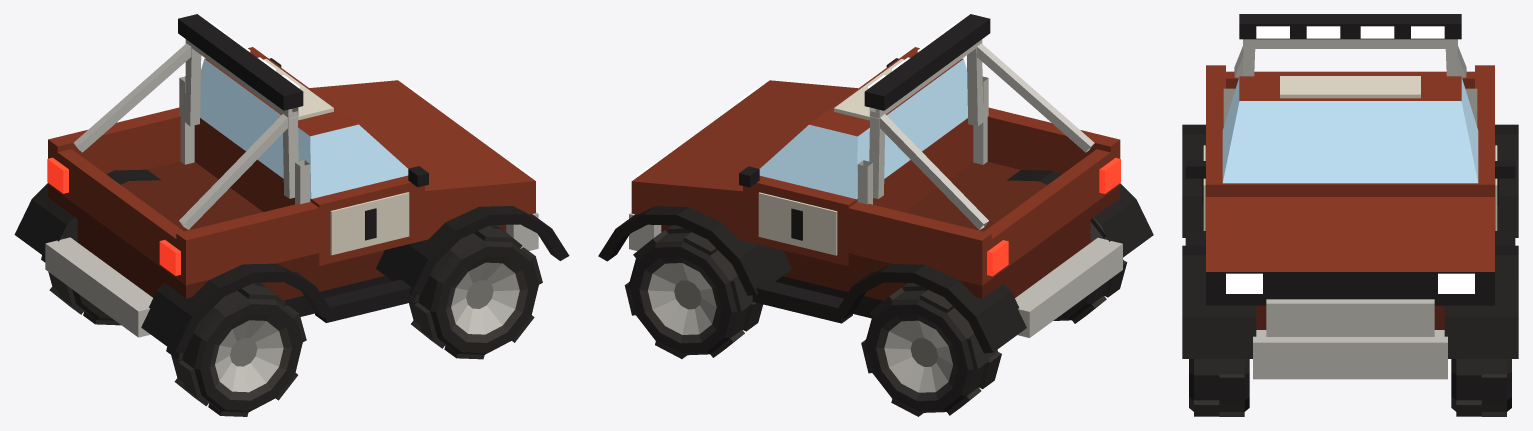
Rendered from trucks.glb.
The picture shows the model from 3 angles, left to right: view 1: azimuth 30°, elevation 25°; view 2: azimuth 150°, elevation 25°; view 3: azimuth 270°, elevation 25°; orthographic projection. The views are drawn at different scales.
Parts seen in each view (by area): view 1: truck, wheel_3, wheel_1, wheel_2; view 2: truck, wheel_2, wheel_0, wheel_3; view 3: truck, wheel_0, wheel_1.
Part boxes in pixels (x1,y1,x2,y2): truck: (14, 14, 569, 352); wheel_3: (166, 282, 306, 416); wheel_1: (409, 225, 542, 359); wheel_2: (41, 217, 120, 325); truck: (598, 14, 1153, 353); wheel_2: (861, 283, 1001, 416); wheel_0: (624, 225, 763, 358); wheel_3: (1053, 217, 1127, 323); truck: (1182, 14, 1518, 379); wheel_0: (1451, 359, 1511, 416); wheel_1: (1189, 359, 1249, 416).
Bounding box in the file's own units: 2.88 × 2 × 2.
